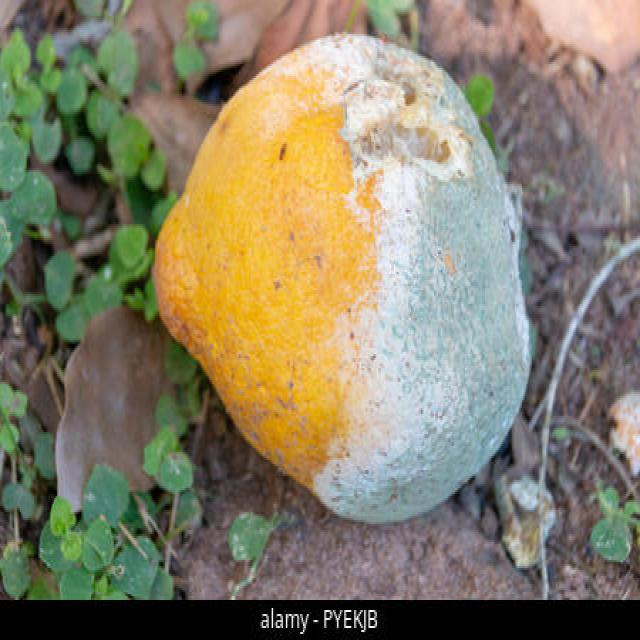Rotten: (148, 30, 534, 524)
